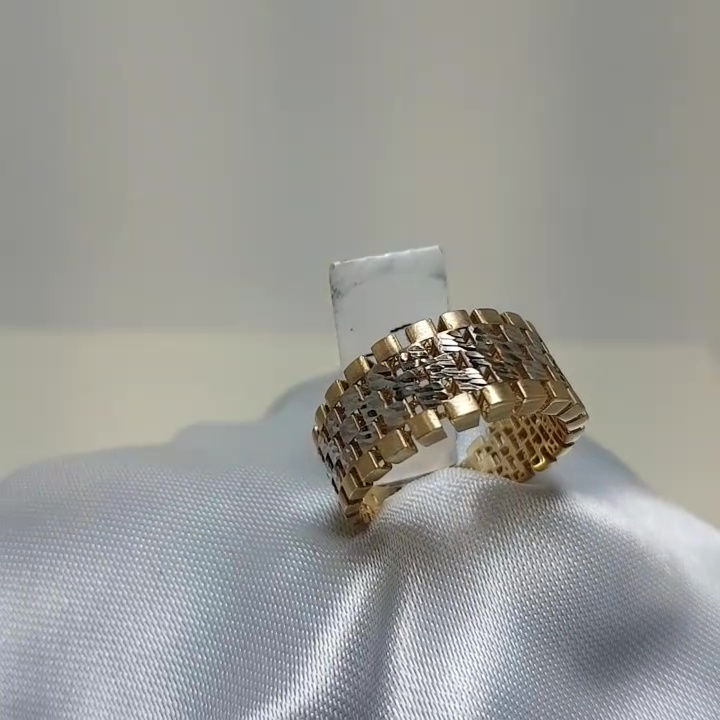Ring 1: (301, 290, 603, 558)
